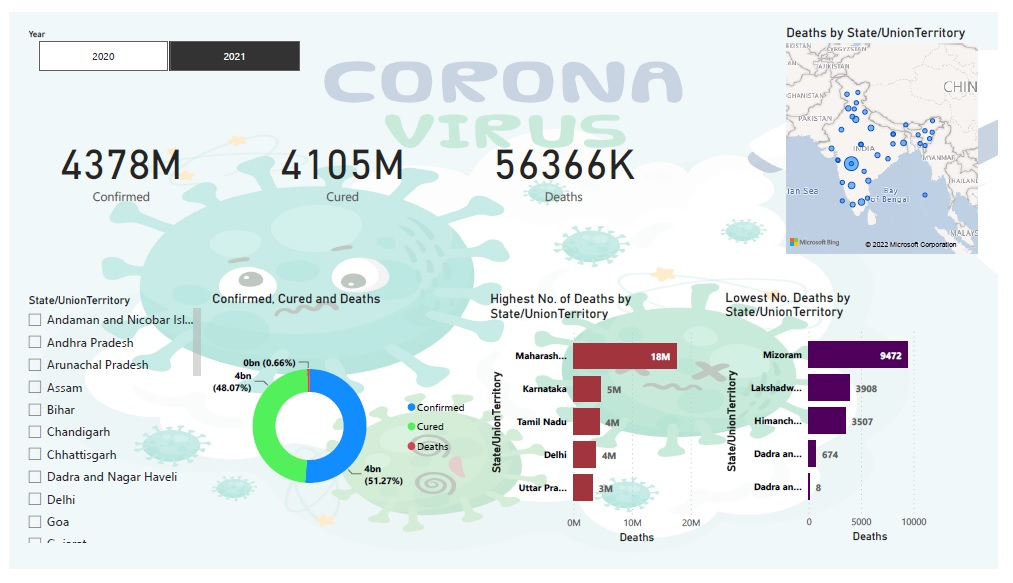

This screenshot's page, from the dashboard's own definition file:
{"tool":"powerbi","page":{"name":"Page 1","canvas":[1280,720],"ordinal":0},"visuals":[{"type":"card","fields":{"Values":["Sum(covid_19_india.Confirmed)"]},"box":[11.7,82,266.3,235.6],"z":0},{"type":"card","fields":{"Values":["Sum(covid_19_india.Cured)"]},"box":[301.5,82,260.5,235.6],"z":1000},{"type":"card","fields":{"Values":["Sum(covid_19_india.Deaths)"]},"box":[595.6,82,244.4,235.6],"z":2000},{"type":"map","fields":{"Category":["covid_19_india.State/UnionTerritory"],"Size":["Sum(covid_19_india.Deaths)"]},"box":[1001,16.1,257.6,301.5],"z":3000},{"type":"slicer","fields":{"Values":["covid_19_india.Year"]},"box":[11.7,16.1,387.8,65.9],"z":4000},{"type":"donutChart","fields":{"Y":["Sum(covid_19_india.Confirmed)","Sum(covid_19_india.Cured)","Sum(covid_19_india.Deaths)"]},"box":[257.6,360,346.8,332.2],"z":5001},{"type":"slicer","fields":{"Values":["covid_19_india.State/UnionTerritory"]},"box":[11.7,360,240,330.7],"z":5002},{"type":"clusteredBarChart","title":"Highest No. of Deaths by State/UnionTerritory","fields":{"Category":["covid_19_india.State/UnionTerritory"],"Y":["Sum(covid_19_india.Deaths)"]},"box":[617.6,360,294.1,332.2],"z":5003},{"type":"clusteredBarChart","title":"Lowest No. Deaths by State/UnionTerritory","fields":{"Category":["covid_19_india.State/UnionTerritory"],"Y":["Sum(covid_19_india.Deaths)"]},"box":[922,358.5,294.1,332.2],"z":5004}]}

Visuals, with their boxes in screenshot pixels (x1, y1, x2, y2), scaled from the page's 1280x720 canvas onto the 1013x583 screenshot:
card - Sum(covid_19_india.Confirmed): left=9, top=66, right=220, bottom=257
card - Sum(covid_19_india.Cured): left=239, top=66, right=445, bottom=257
card - Sum(covid_19_india.Deaths): left=471, top=66, right=665, bottom=257
map - covid_19_india.State/UnionTerritory x Sum(covid_19_india.Deaths): left=792, top=13, right=996, bottom=257
slicer - covid_19_india.Year: left=9, top=13, right=316, bottom=66
donutChart - Sum(covid_19_india.Confirmed) x Sum(covid_19_india.Cured): left=204, top=292, right=478, bottom=560
slicer - covid_19_india.State/UnionTerritory: left=9, top=292, right=199, bottom=559
"Highest No. of Deaths by State/UnionTerritory" clusteredBarChart: left=489, top=292, right=722, bottom=560
"Lowest No. Deaths by State/UnionTerritory" clusteredBarChart: left=730, top=290, right=962, bottom=559
